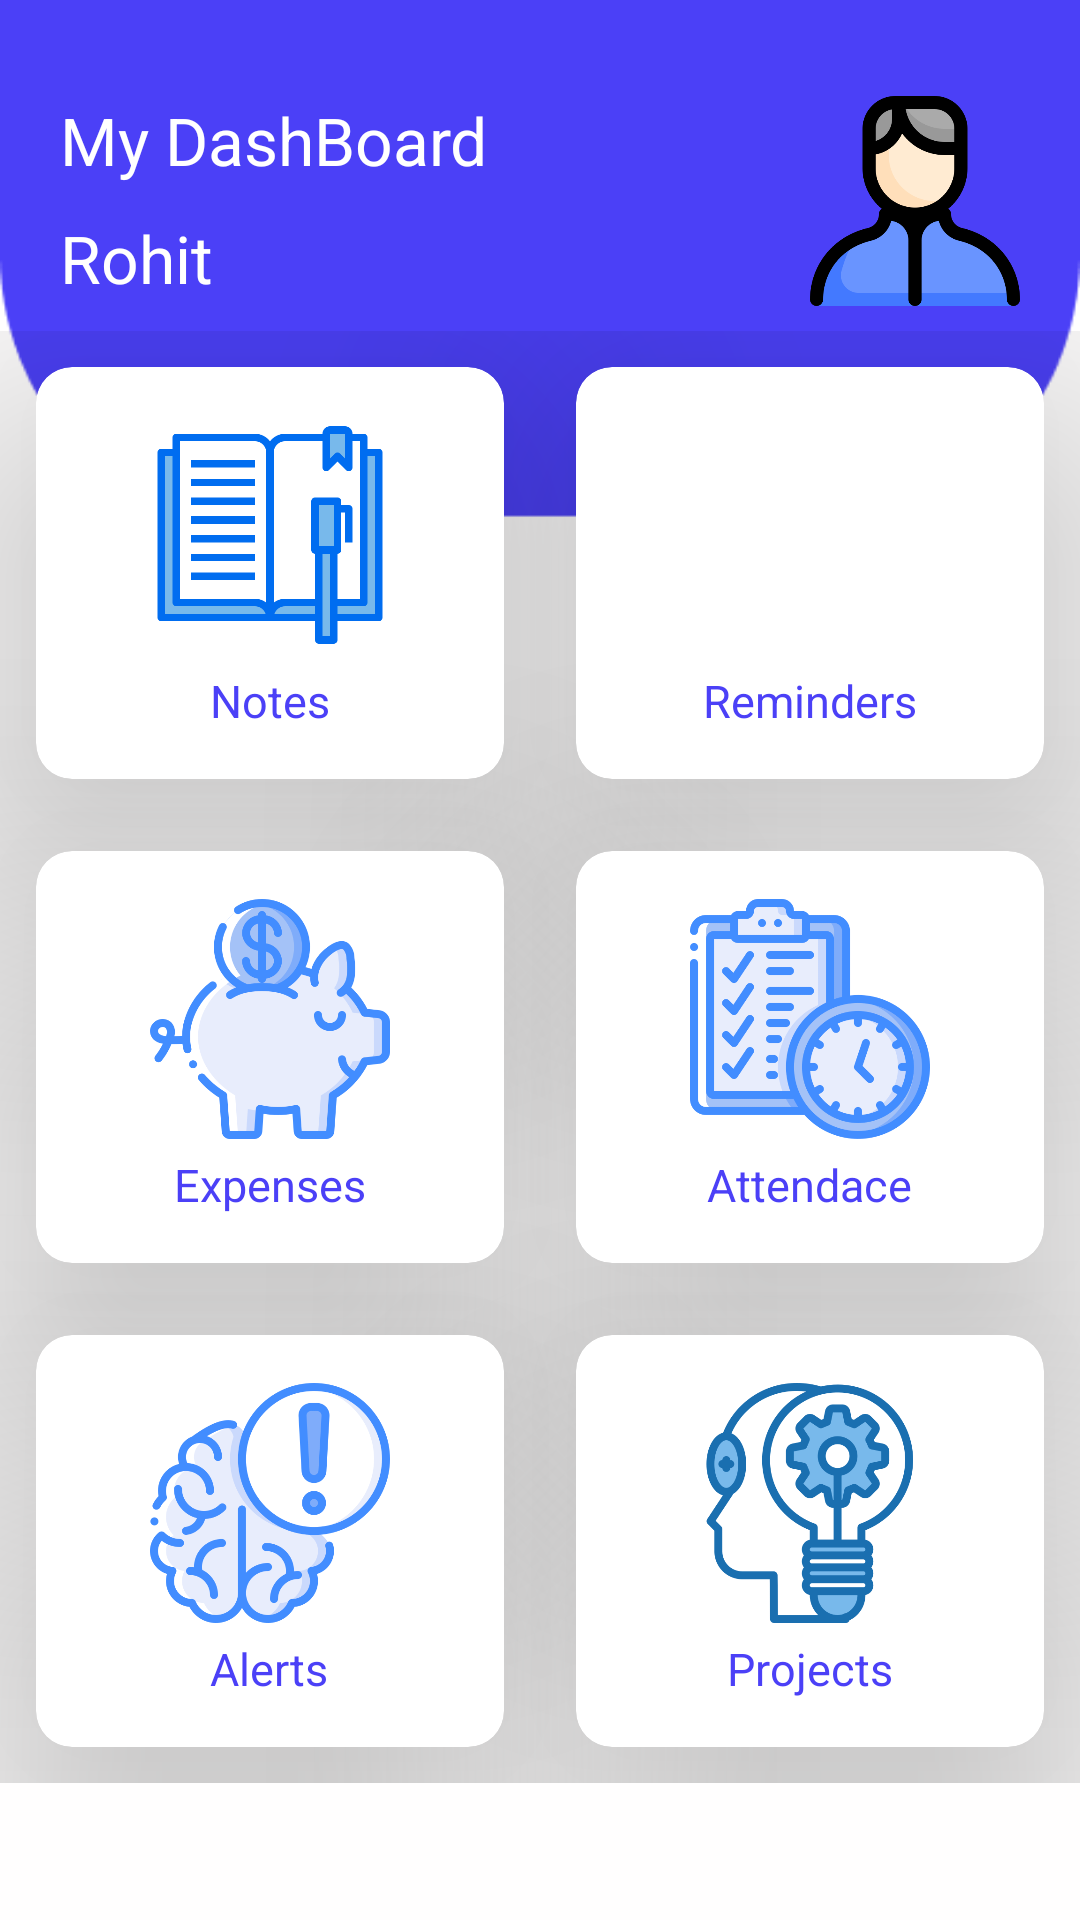

Icons on this 1080px x 1920px Android screen, each with the point to tap as (x,y):
checklist: (810,1019)
man: (915,201)
piggybank: (270,1019)
